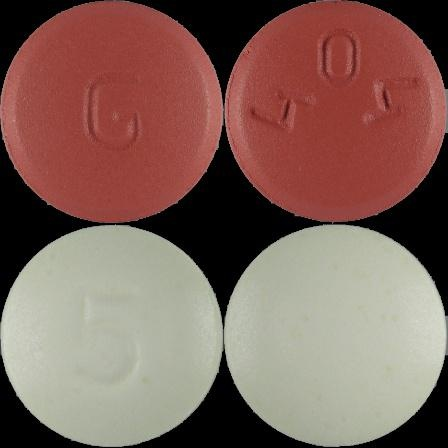43063-393: (0, 0, 224, 224)
